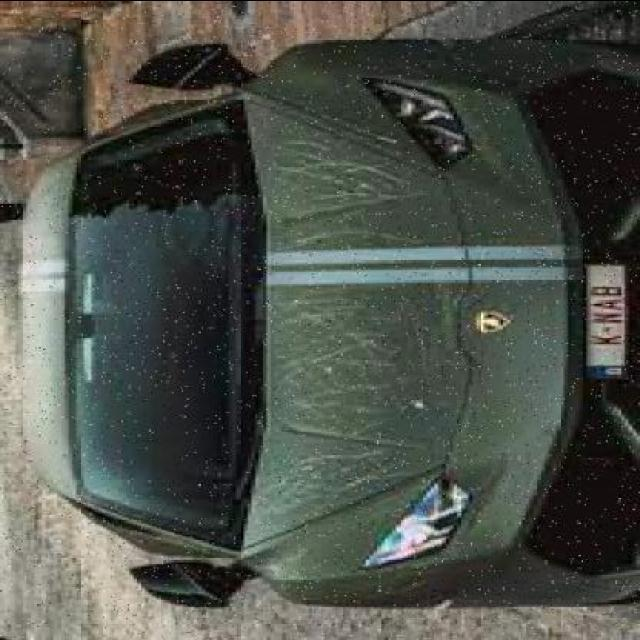bonnet-dent: (240, 64, 511, 568)
